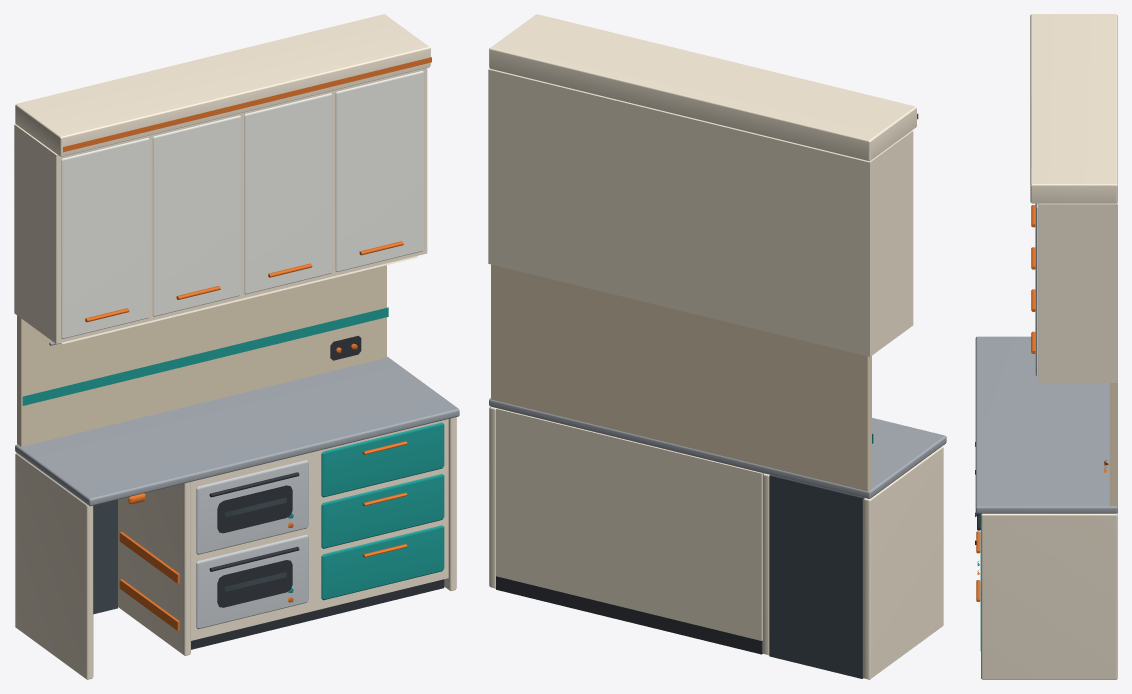
The model's file is CocinaModulo.fbx.
3 renders of one model, left to right at view 1: azimuth 30°, elevation 25°; view 2: azimuth 150°, elevation 25°; view 3: azimuth 270°, elevation 25°, orthographic. The views are drawn at different scales.
Parts seen in each view (by area): view 1: CocinaModulo; view 2: CocinaModulo; view 3: CocinaModulo.
Boxes of the visible parts, left/top/right/bottom form: CocinaModulo: left=14, top=14, right=459, bottom=679; CocinaModulo: left=488, top=14, right=946, bottom=679; CocinaModulo: left=975, top=14, right=1117, bottom=679.
Bounding box in the file's own units: 7.4 × 10 × 2.61.
1 material, 1 textured.
